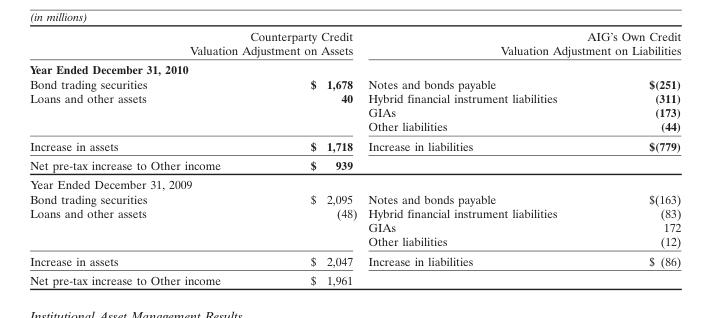table: (29, 28, 680, 286)
table column: (362, 28, 602, 286), (29, 28, 264, 286), (264, 28, 362, 286), (602, 28, 680, 286)
table column header: (29, 28, 680, 59)
table projected row header: (29, 59, 680, 76), (29, 174, 680, 191)
table row: (29, 28, 680, 59), (29, 135, 680, 155), (29, 250, 680, 270), (29, 155, 680, 174), (29, 59, 680, 76), (29, 118, 680, 135), (29, 174, 680, 191), (29, 233, 680, 250), (29, 270, 680, 286), (29, 76, 680, 90), (29, 90, 680, 104), (29, 104, 680, 118), (29, 191, 680, 205), (29, 205, 680, 219), (29, 219, 680, 233)
table spanning cell: (29, 28, 362, 59), (362, 28, 680, 59)
